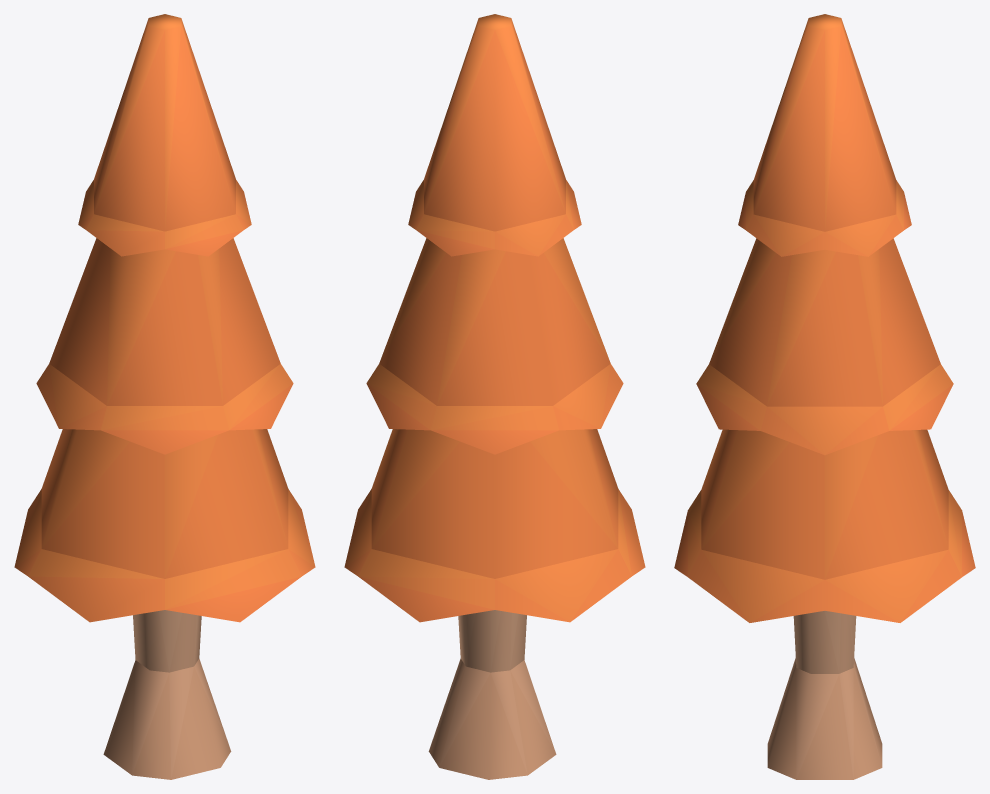
File: tree-autumn.glb
The picture shows the model from 3 angles, left to right: view 1: azimuth 30°, elevation 25°; view 2: azimuth 150°, elevation 25°; view 3: azimuth 270°, elevation 25°; orthographic projection.
Visible parts, largest first — view 1: cff8644, cff8744, cff8b44, cff8e44, cdea27b, cff8444, ce1a680, ce7af89, ceab38d; view 2: cff8644, cff8b44, cff8744, cdea27b, cff8e44, cff8444, ce1a680, ce7af89, ceab38d; view 3: cff8644, cff8b44, cff8744, cdea27b, ce1a680, cff8e44, cff8444, ce7af89, ceab38d.
Part boxes in pixels (left/top/right/bottom): cff8644: left=49, top=20, right=280, bottom=405; cff8744: left=14, top=180, right=315, bottom=622; cff8b44: left=14, top=19, right=315, bottom=609; cff8e44: left=28, top=14, right=287, bottom=609; cdea27b: left=103, top=661, right=230, bottom=779; cff8444: left=101, top=230, right=301, bottom=622; ce1a680: left=132, top=658, right=230, bottom=778; ce7af89: left=135, top=611, right=201, bottom=672; ceab38d: left=133, top=610, right=198, bottom=671; cff8644: left=379, top=20, right=610, bottom=405; cff8b44: left=344, top=18, right=618, bottom=621; cff8744: left=344, top=180, right=645, bottom=622; cdea27b: left=429, top=668, right=556, bottom=779; cff8e44: left=358, top=14, right=631, bottom=578; cff8444: left=358, top=230, right=558, bottom=622; ce1a680: left=429, top=658, right=555, bottom=774; ce7af89: left=458, top=611, right=526, bottom=672; ceab38d: left=461, top=610, right=518, bottom=671; cff8644: left=709, top=21, right=940, bottom=406; cff8b44: left=688, top=18, right=961, bottom=622; cff8744: left=688, top=215, right=961, bottom=622; cdea27b: left=767, top=658, right=882, bottom=779; ce1a680: left=769, top=658, right=881, bottom=779; cff8e44: left=688, top=14, right=961, bottom=576; cff8444: left=674, top=192, right=975, bottom=576; ce7af89: left=796, top=611, right=853, bottom=673; ceab38d: left=793, top=611, right=856, bottom=672.
Size of the model in its own units: 0.5529 by 1.41 by 0.5262.
